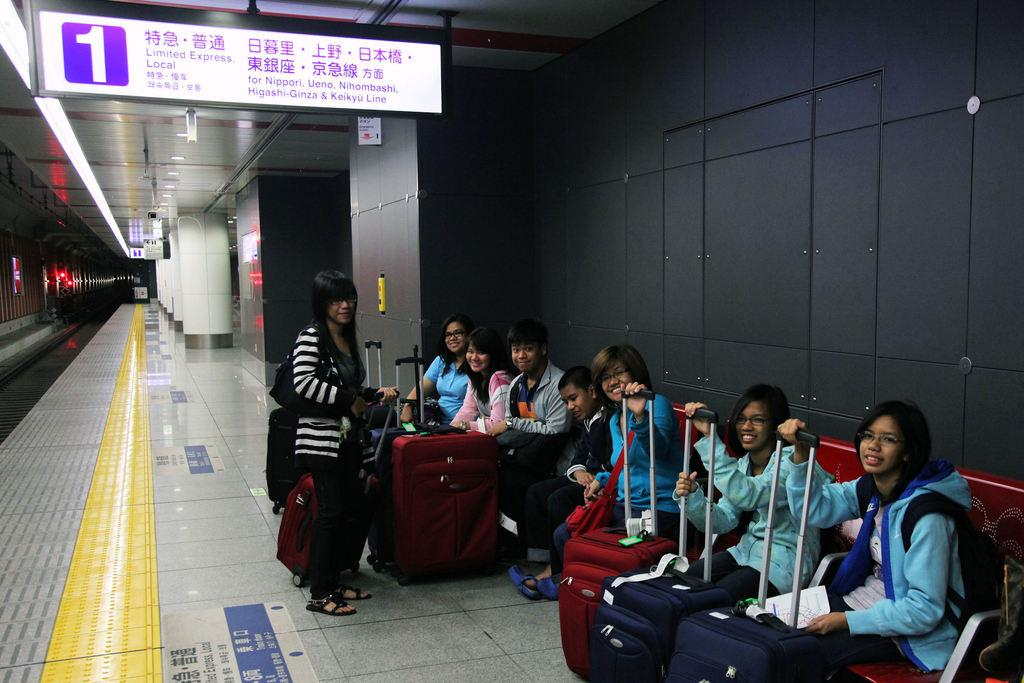Luggage-and-bags: (665, 418, 840, 682), (589, 401, 740, 682), (556, 383, 664, 646), (276, 395, 399, 584), (367, 426, 514, 582), (891, 496, 1023, 638), (372, 354, 467, 467), (262, 404, 292, 513), (362, 342, 388, 395)
